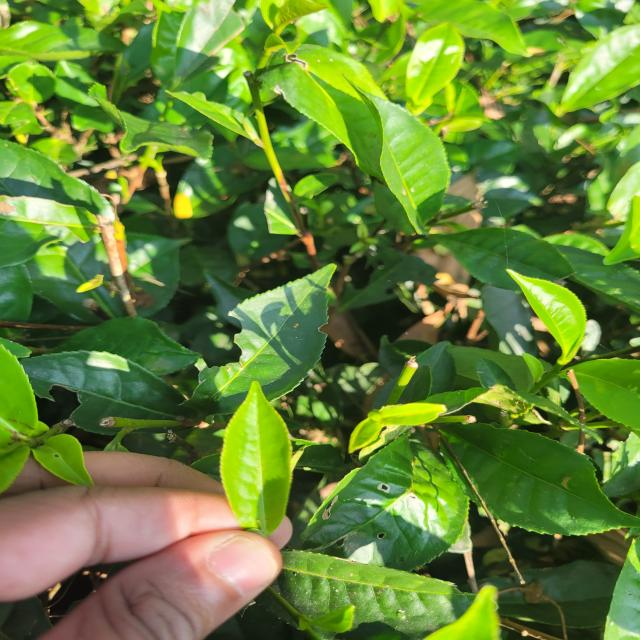Catagory A(1-2 days): (208, 374, 309, 538)
